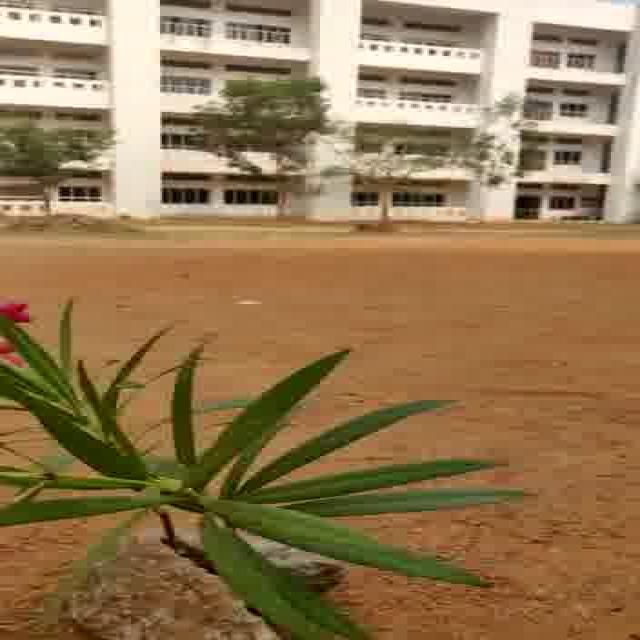Oleander: (0, 285, 541, 627)
